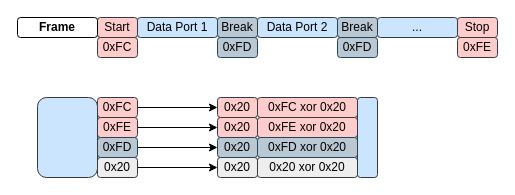
The diagram is 515 pixels wide and 195 high, and some of its shapes have lost their labels. The centre of each missing label's shape, as x and y in pixels:
"Frame Data" goes at point 367,137.
"Raw Data (Max 16 bytes)" goes at point 67,137.
